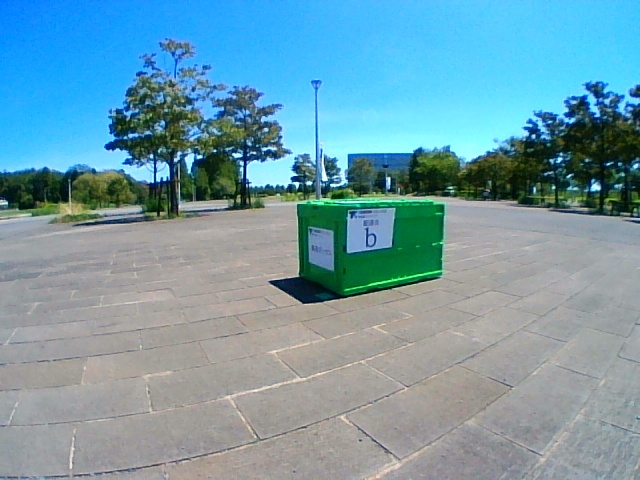green_box: (297, 198, 445, 295)
tag_b: (350, 208, 390, 248)
